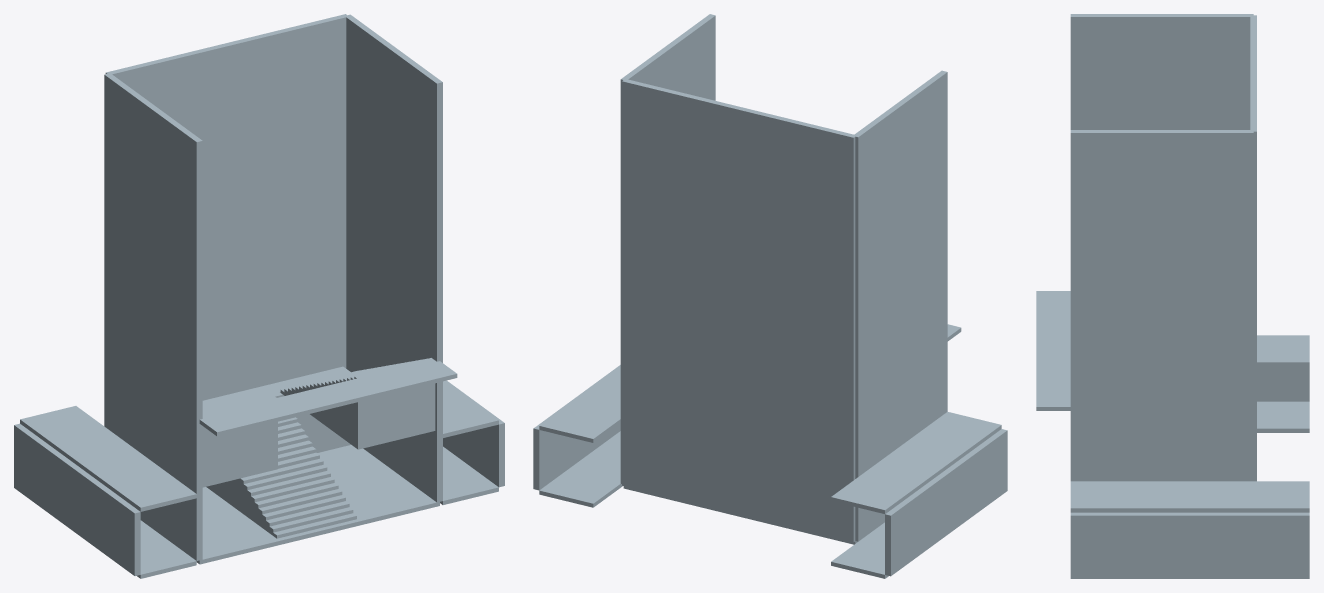
File: escadaria.glb
3 renders of one model, left to right at view 1: azimuth 30°, elevation 25°; view 2: azimuth 150°, elevation 25°; view 3: azimuth 270°, elevation 25°, orthographic. The views are drawn at different scales.
Visible parts, largest first — view 1: escadaria_parede-fundo, escadaria_parede-esq, escadaria_parede-dir, escadaria_piso, corredor-esq_parede, corredor-esq_teto, escadaria_chegada, escadaria_lateral-dir-21, escadaria_lateral-esq-21, corredor-dir_parede, escadaria_patamar, corredor-esq_piso (+12 smaller); view 2: escadaria_parede-fundo, escadaria_parede-esq, corredor-esq_parede, corredor-esq_teto, escadaria_parede-dir, corredor-dir_piso, corredor-dir_teto, corredor-dir_parede, corredor-esq_piso, escadaria_piso; view 3: escadaria_parede-dir, escadaria_parede-esq, corredor-dir_parede, corredor-dir_teto, escadaria_chegada, escadaria_parede-fundo, corredor-esq_parede, corredor-esq_piso, corredor-esq_teto, corredor-dir_piso.
Boxes of the visible parts, bbox=[...] form: escadaria_parede-fundo: bbox=[105, 14, 348, 400]; escadaria_parede-esq: bbox=[104, 73, 202, 560]; escadaria_parede-dir: bbox=[345, 14, 442, 502]; escadaria_piso: bbox=[196, 445, 439, 564]; corredor-esq_parede: bbox=[14, 423, 140, 575]; corredor-esq_teto: bbox=[20, 406, 196, 511]; escadaria_chegada: bbox=[199, 360, 457, 436]; escadaria_lateral-dir-21: bbox=[354, 358, 435, 449]; escadaria_lateral-esq-21: bbox=[202, 396, 277, 487]; corredor-dir_parede: bbox=[443, 380, 504, 487]; escadaria_patamar: bbox=[202, 366, 350, 452]; corredor-esq_piso: bbox=[137, 520, 196, 578]; escadaria_parede-fundo: bbox=[622, 79, 855, 542]; escadaria_parede-esq: bbox=[853, 70, 947, 541]; corredor-esq_parede: bbox=[885, 429, 1007, 576]; corredor-esq_teto: bbox=[831, 411, 1001, 513]; escadaria_parede-dir: bbox=[620, 14, 715, 483]; corredor-dir_piso: bbox=[539, 431, 622, 507]; corredor-dir_teto: bbox=[539, 366, 620, 442]; corredor-dir_parede: bbox=[533, 365, 620, 490]; corredor-esq_piso: bbox=[831, 522, 888, 578]; escadaria_piso: bbox=[623, 486, 857, 544]; escadaria_parede-dir: bbox=[1070, 130, 1253, 481]; escadaria_parede-esq: bbox=[1070, 14, 1253, 129]; corredor-dir_parede: bbox=[1070, 512, 1309, 577]; corredor-dir_teto: bbox=[1070, 481, 1309, 512]; escadaria_chegada: bbox=[1036, 291, 1070, 410]; escadaria_parede-fundo: bbox=[1250, 15, 1256, 481]; corredor-esq_parede: bbox=[1257, 366, 1309, 401]; corredor-esq_piso: bbox=[1257, 401, 1309, 432]; corredor-esq_teto: bbox=[1257, 335, 1309, 366]; corredor-dir_piso: bbox=[1070, 577, 1309, 578].
Size of the model in its own units: 18.5 by 20.2 by 11.95.
